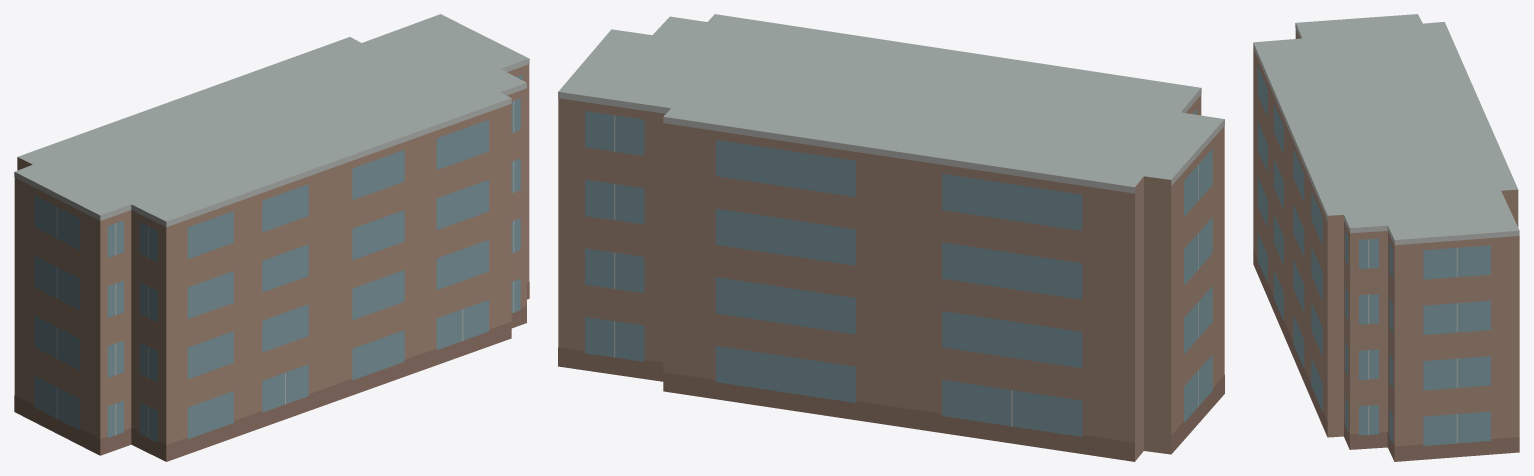
The model's file is survey-upis-32623902.glb.
3 views of the same model, side by side, from view 1: azimuth 30°, elevation 25°; view 2: azimuth 150°, elevation 25°; view 3: azimuth 270°, elevation 25° (orthographic). The views are drawn at different scales.
Parts seen in each view (by area): view 1: survey-upis-32623902.tmp; view 2: survey-upis-32623902.tmp; view 3: survey-upis-32623902.tmp.
Part boxes in pixels (left/top/right/bottom): survey-upis-32623902.tmp: left=14, top=14, right=529, bottom=461; survey-upis-32623902.tmp: left=558, top=14, right=1224, bottom=461; survey-upis-32623902.tmp: left=1253, top=14, right=1519, bottom=461.
Bounding box in the file's own units: 22.99 × 10.5 × 11.44.
